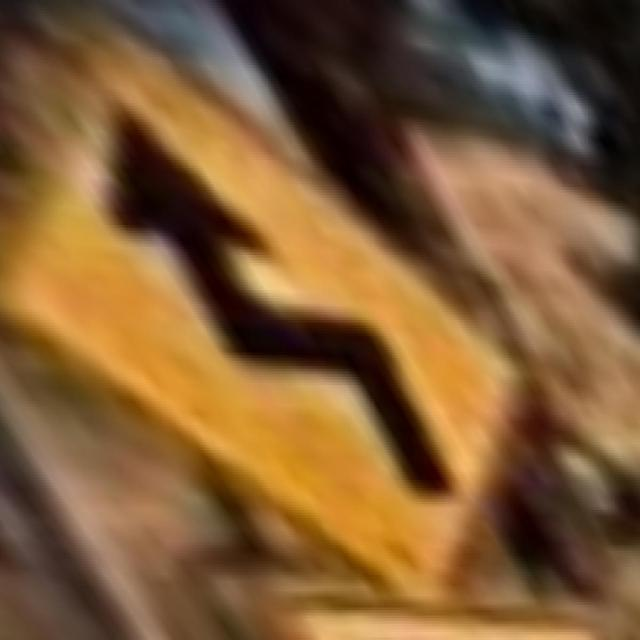Tikungan Ganda Pertama Ke Kiri: (0, 24, 524, 610)
